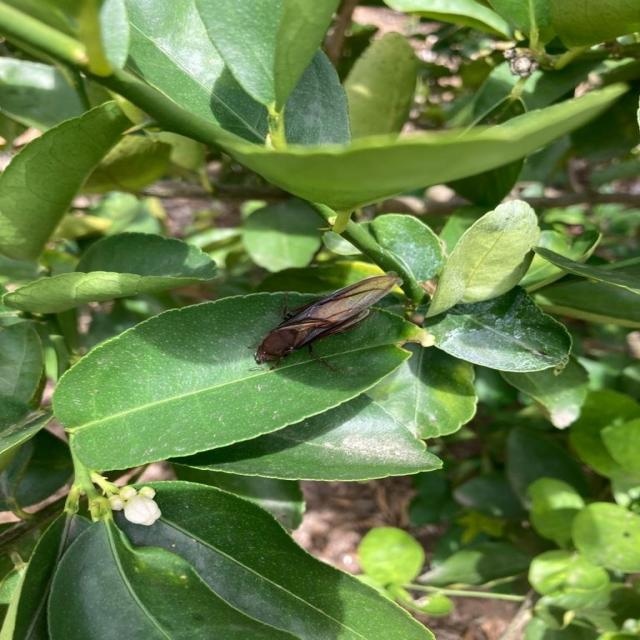Alive-Female-Alate: (246, 271, 403, 373)
